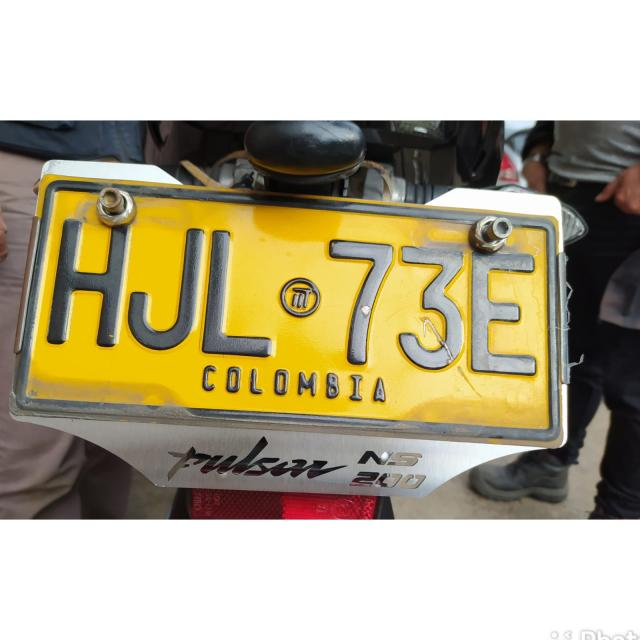placa_moto: (5, 171, 566, 452)
